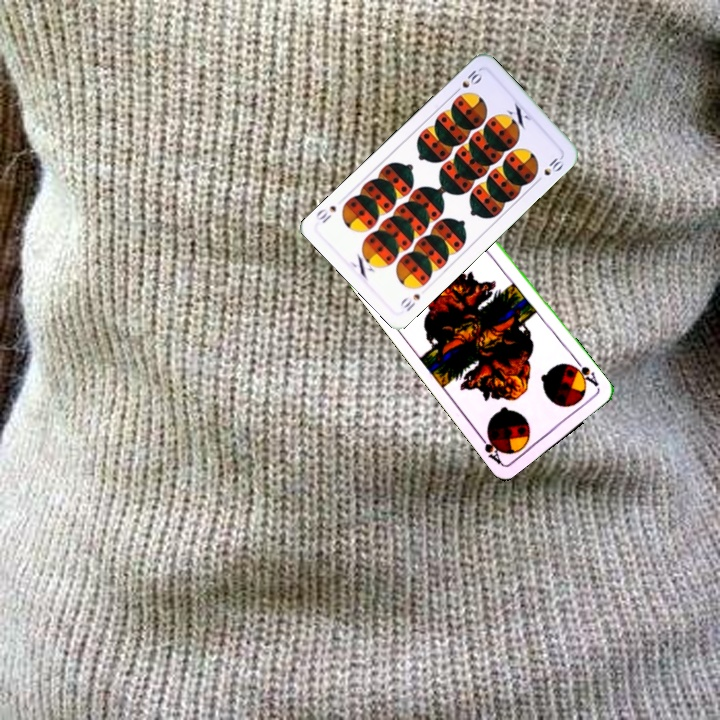S10: (450, 65, 485, 97), (396, 289, 423, 315)
SA: (567, 356, 602, 391)
